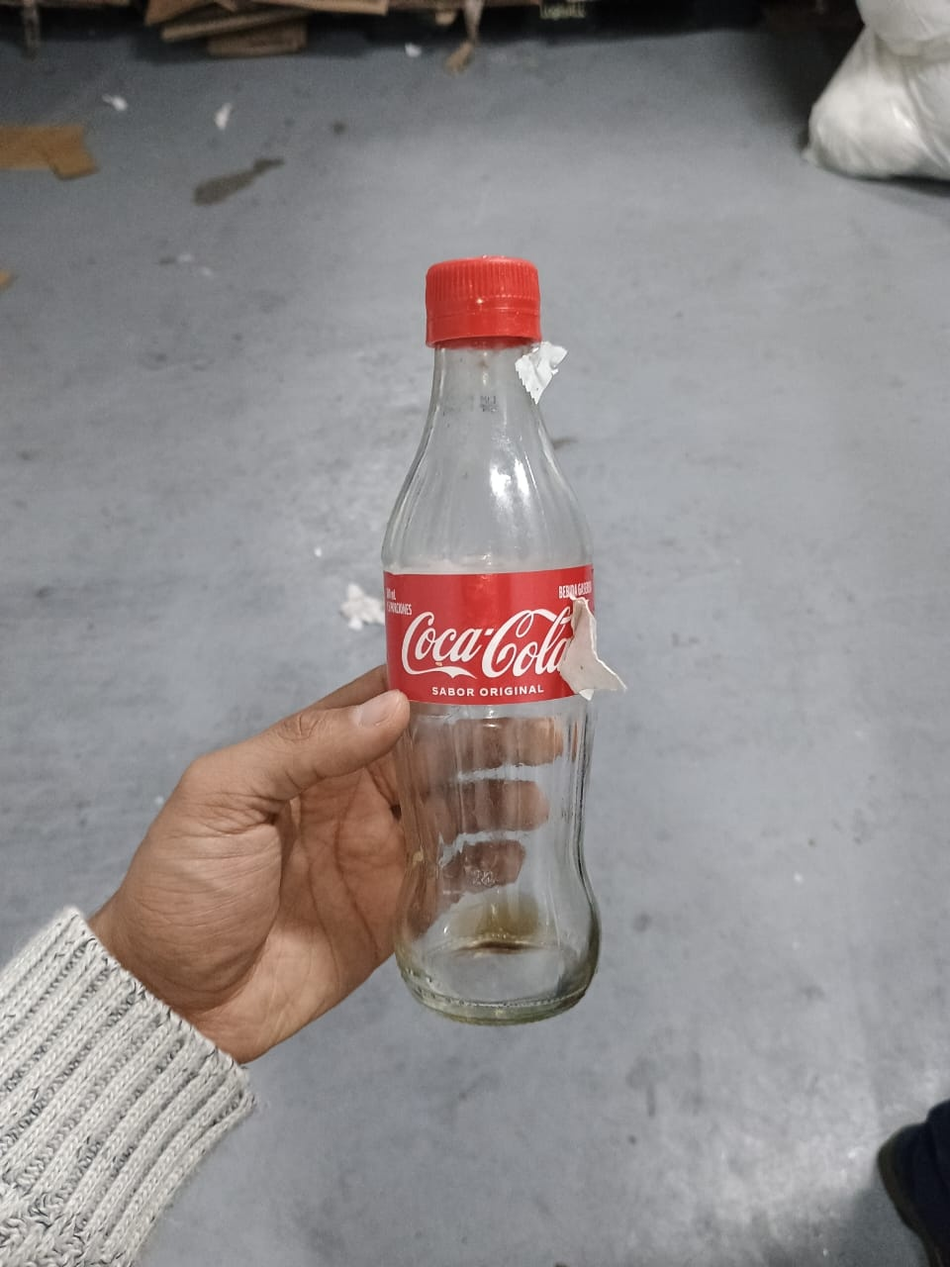Plastico: (375, 253, 595, 1027)
